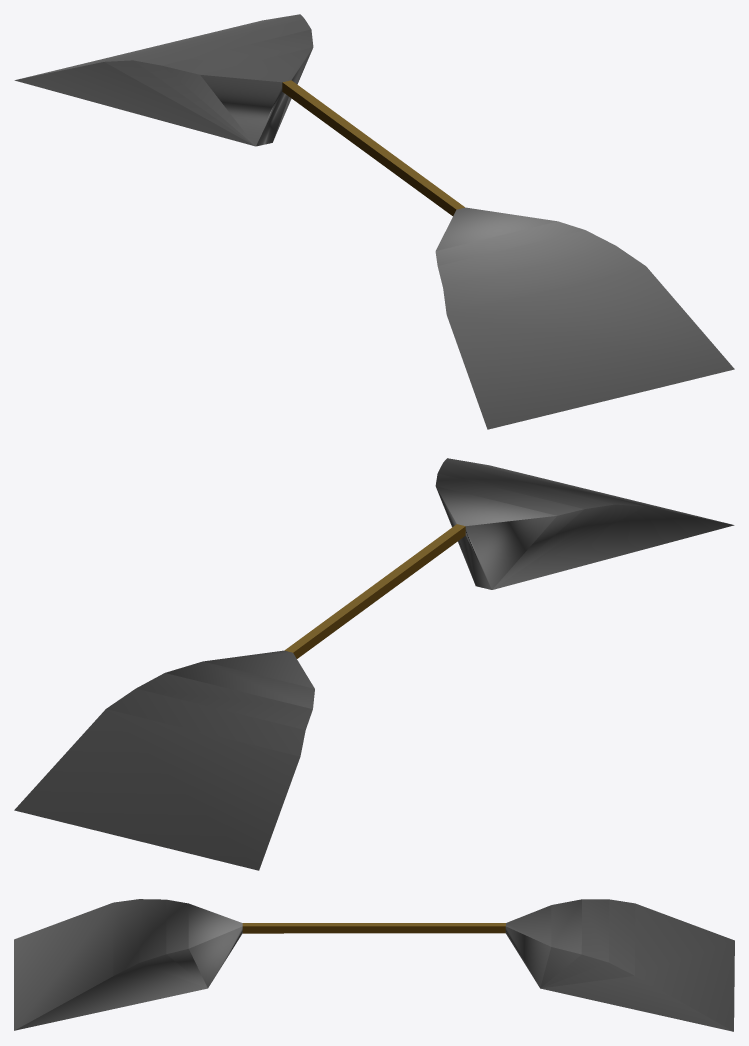
The model's file is poutre.fbx.
3 views of the same model, one above another, from view 1: azimuth 30°, elevation 25°; view 2: azimuth 150°, elevation 25°; view 3: azimuth 270°, elevation 25° (orthographic). The views are drawn at different scales.
Visible parts, largest first — view 1: Cube; view 2: Cube; view 3: Cube.
Boxes of the visible parts, <box> form: Cube: <box>14,14,734,429</box>; Cube: <box>14,458,734,870</box>; Cube: <box>14,899,734,1031</box>.
Bounding box in the file's own units: 326 × 100 × 1076.
